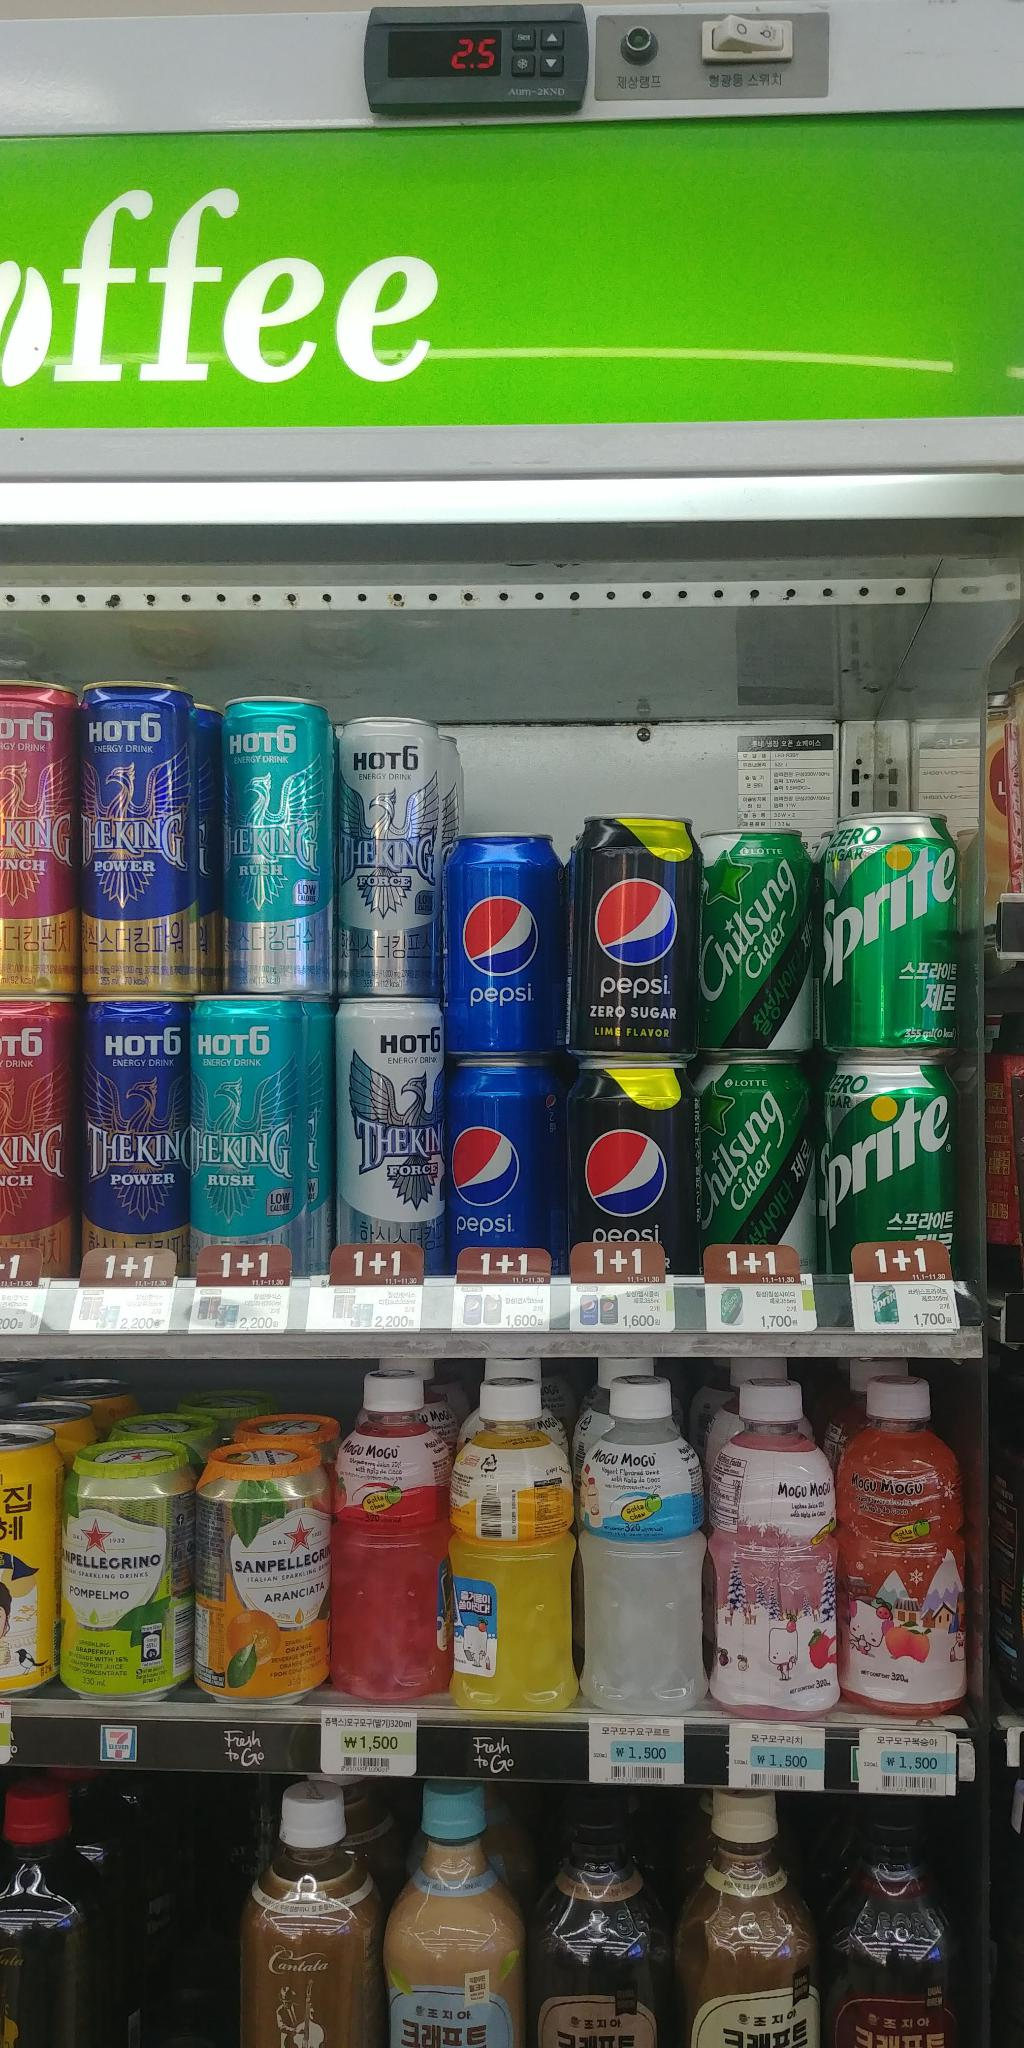pepsi_zero: (563, 816, 704, 1067), (566, 1055, 701, 1284)
